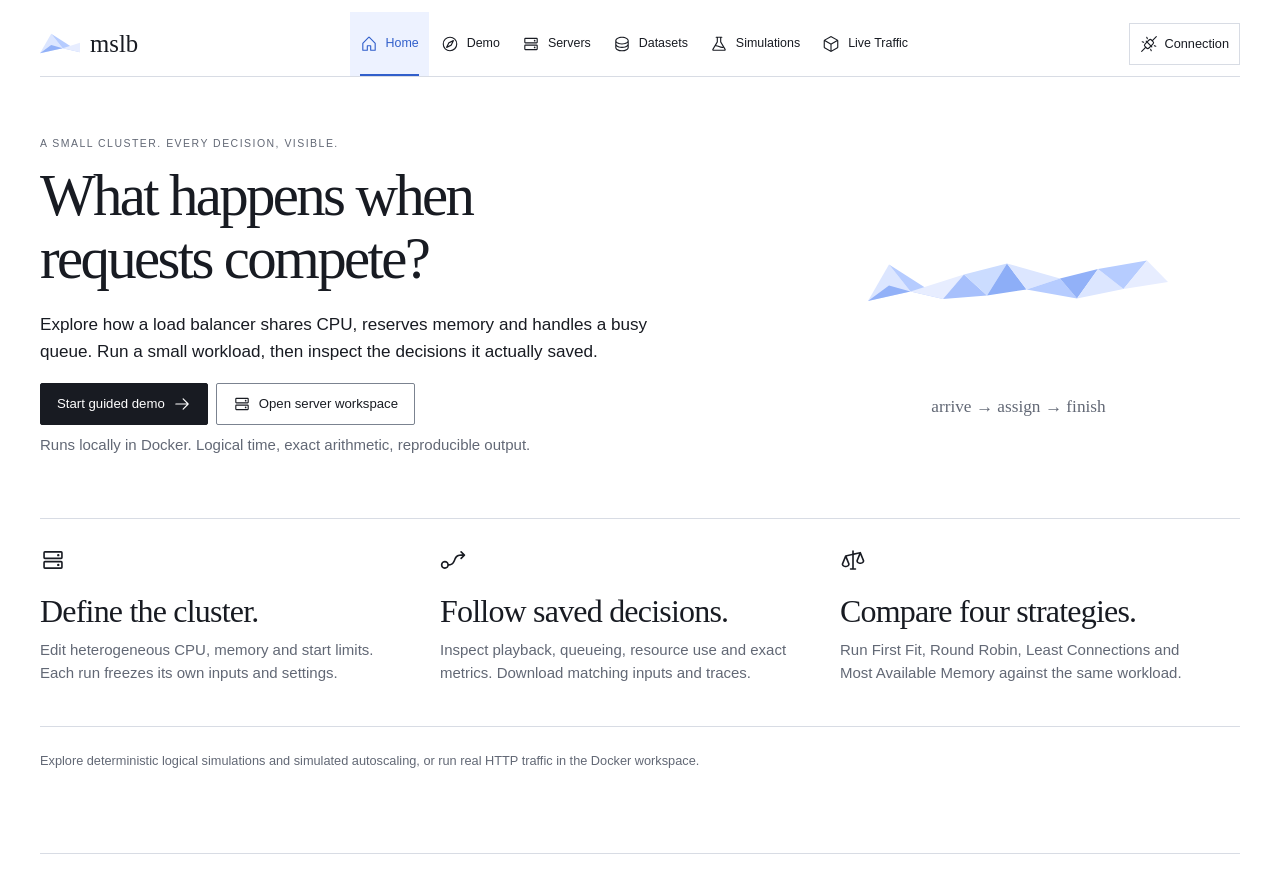
retains the guided workload, registered dataset and uncertain run key across navigation
This screenshot has width=1280, height=877.
Click the button "Start guided demo": (124, 404) [40,383,208,425]
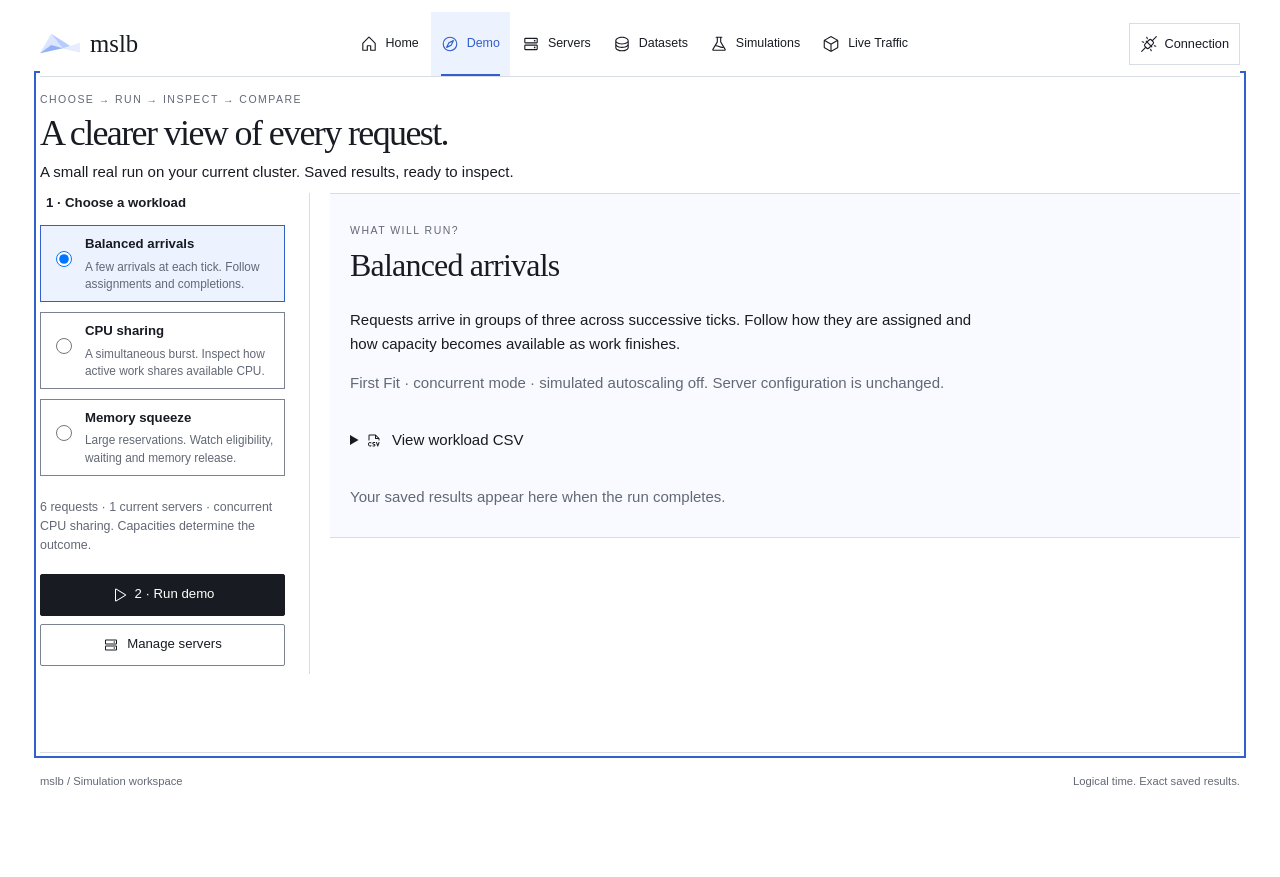
Click the button "2 · Run demo": (162, 595) [40,574,285,616]
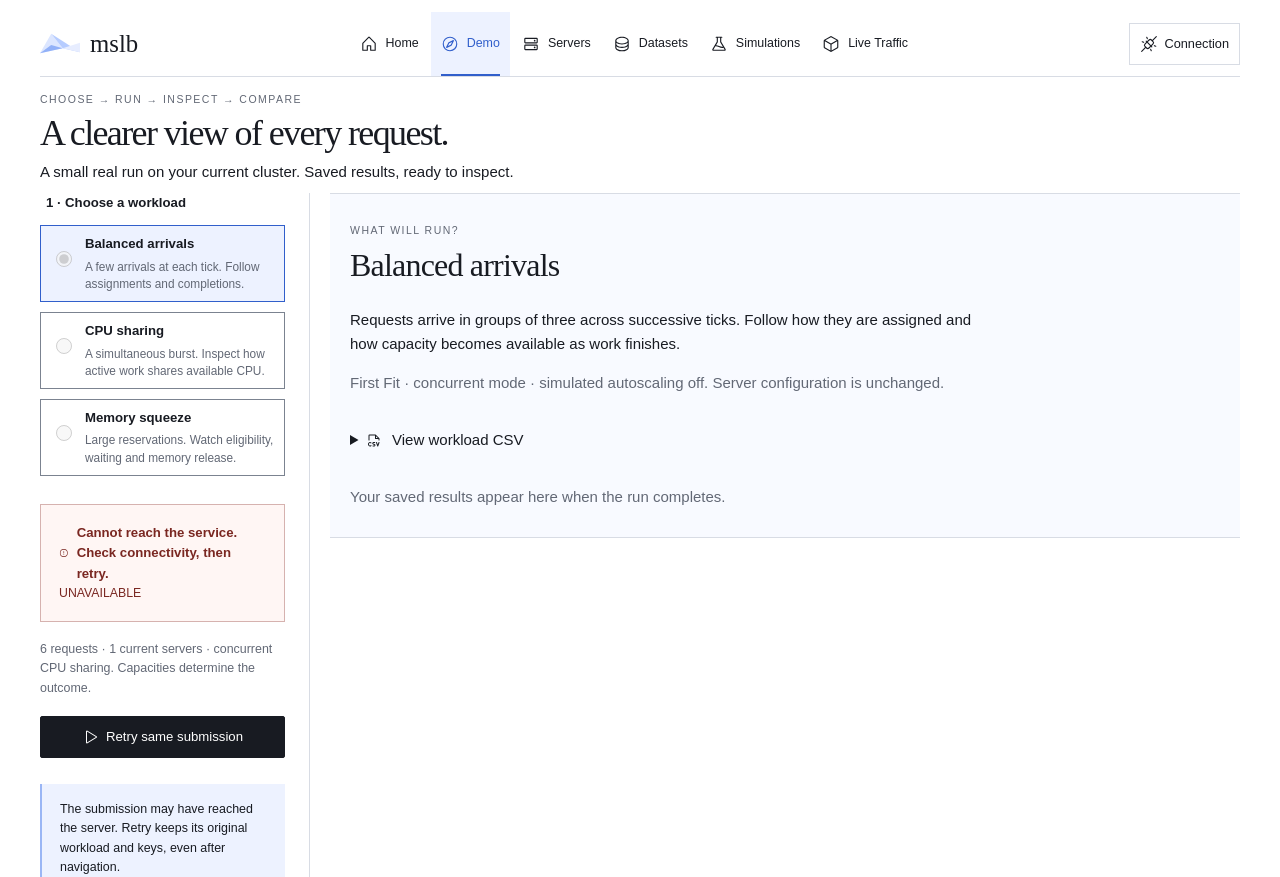
expect the message "Cannot reach the service. Check connectivity, then retry. UNAVAILABLE" is shown: met, box [40,504,285,622]
Click the button "Servers": (556, 44) [512,12,601,76]
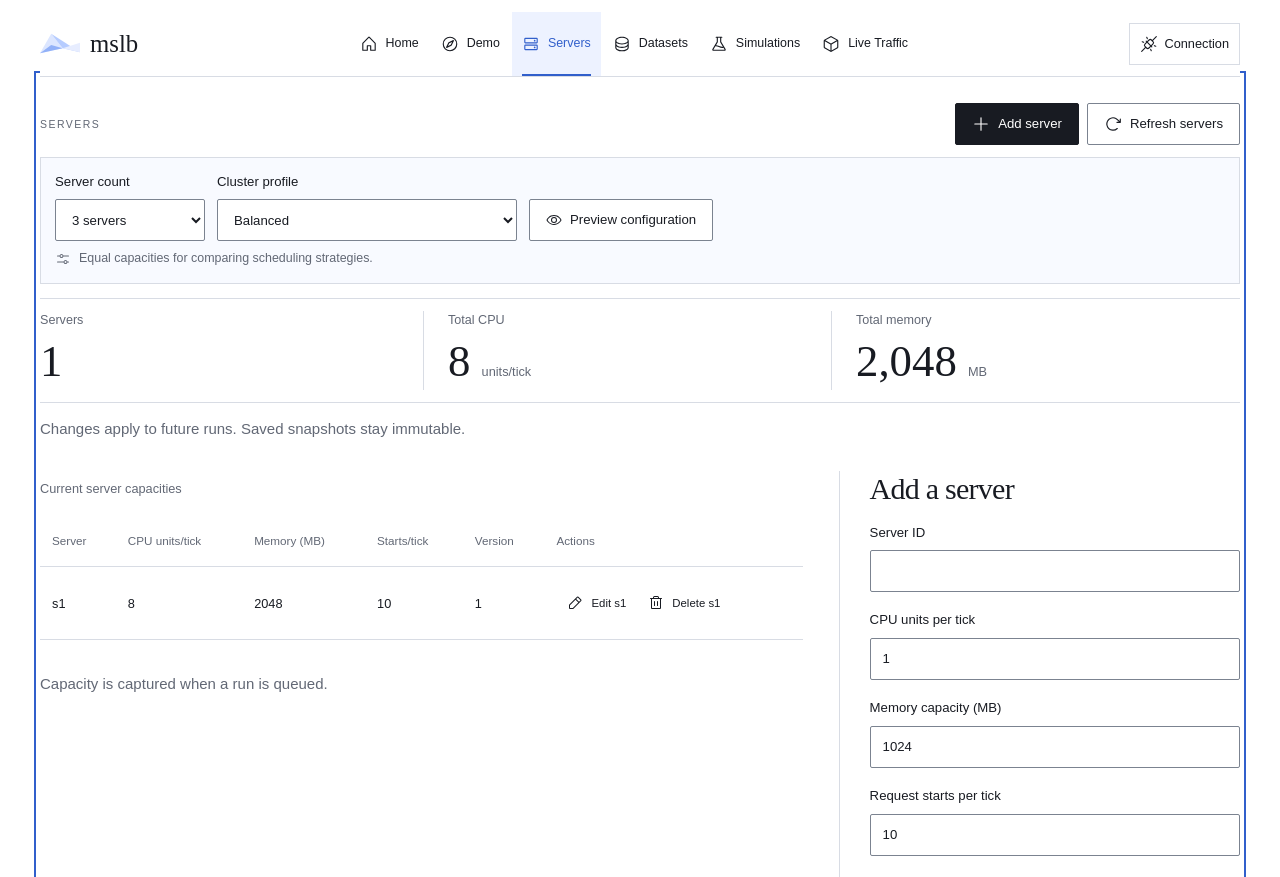
Click the button "Demo": (470, 44) [431,12,510,76]
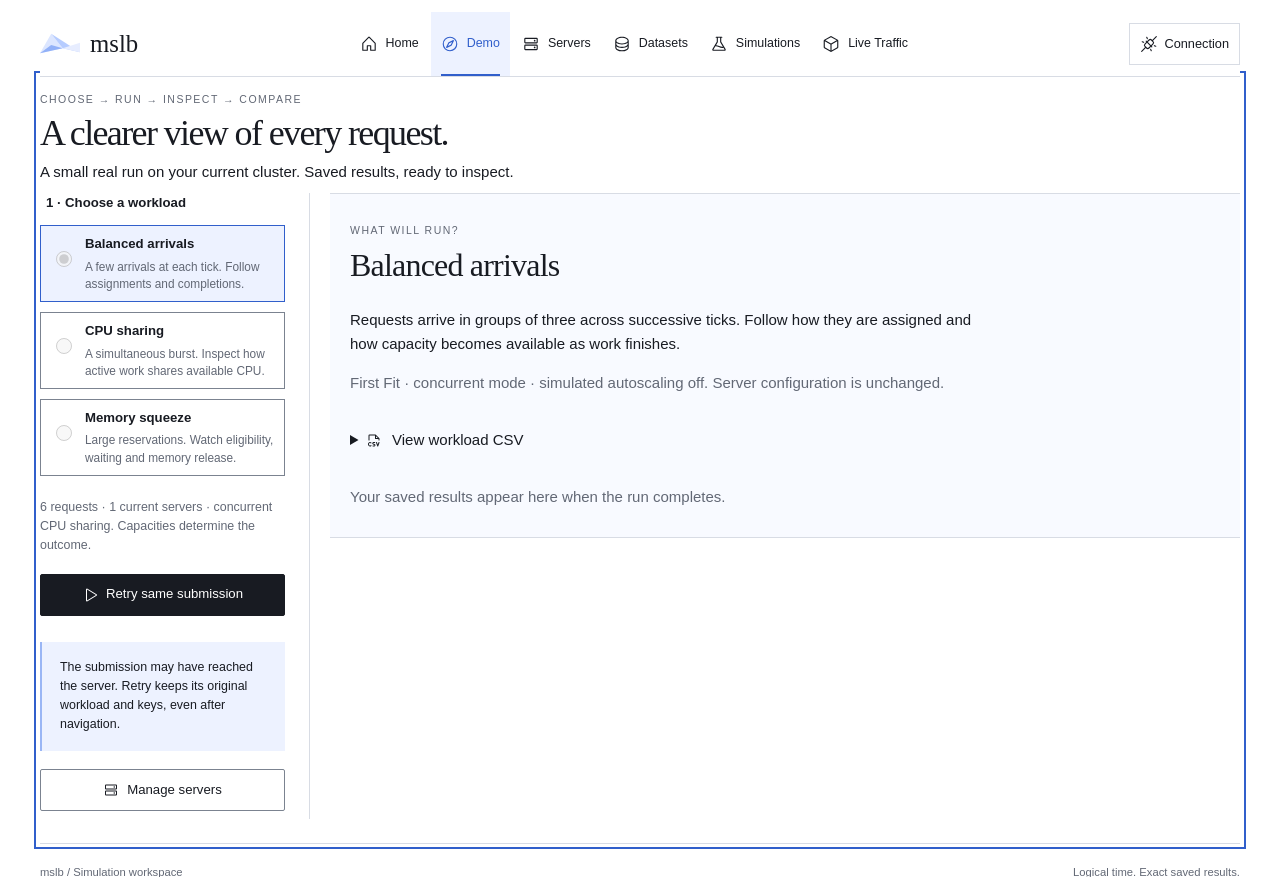
expect the radio button labelled "Balanced arrivals" is checked: met, box [56,238,72,280]
expect the element named "Memory squeeze" is disabled: met, box [40,193,285,486]
Click the button "Retry same submission": (162, 595) [40,574,285,616]
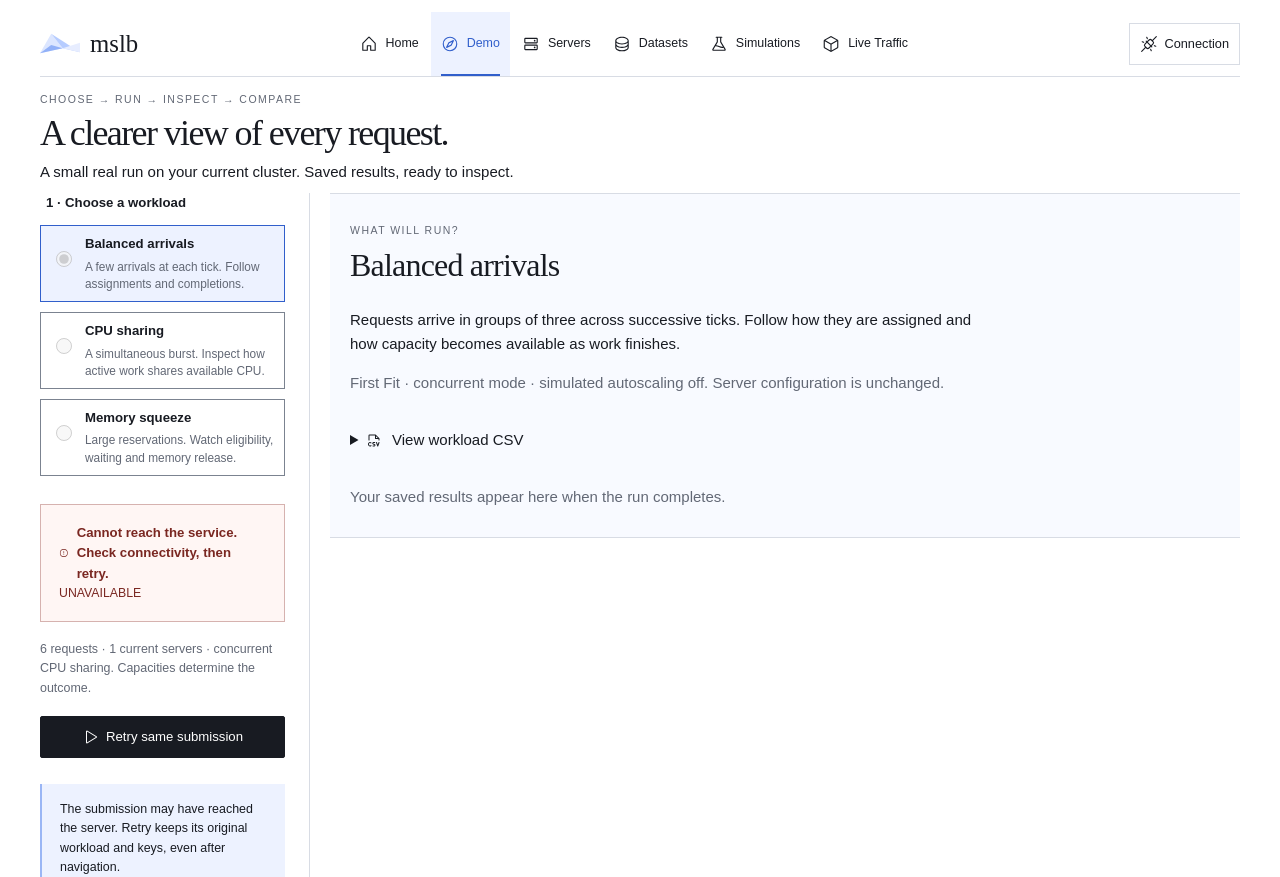
expect the message "Cannot reach the service. Check connectivity, then retry. UNAVAILABLE" is shown: met, box [40,504,285,622]
